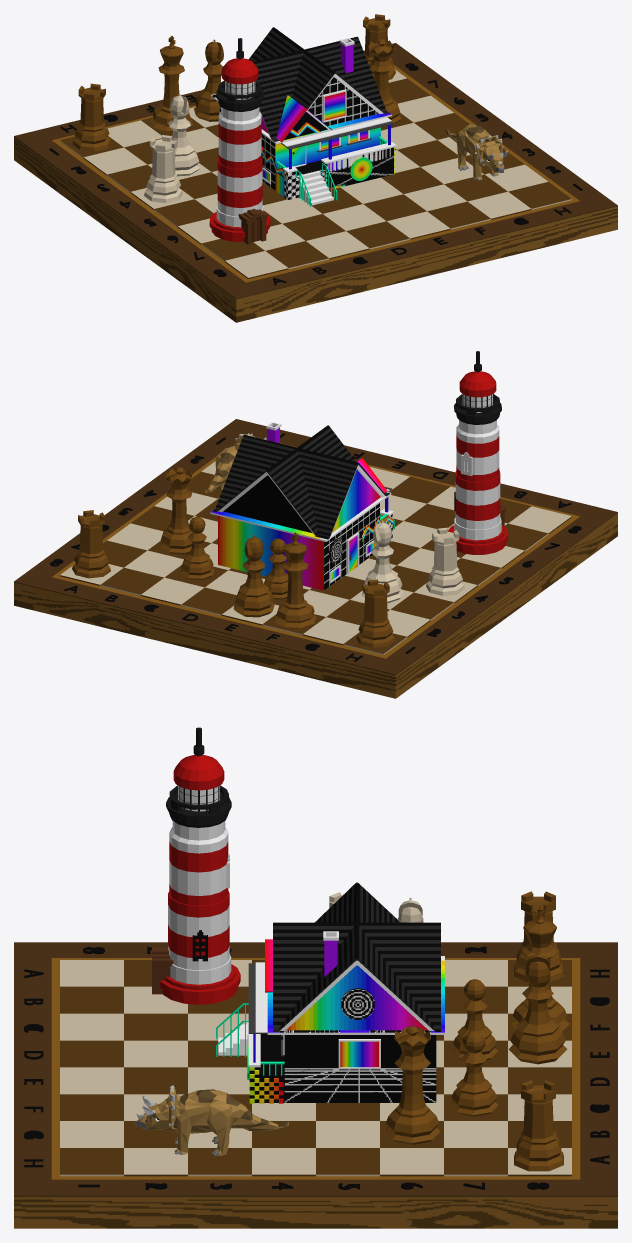
The picture shows the model from 3 angles, top to bottom: view 1: azimuth 30°, elevation 25°; view 2: azimuth 150°, elevation 25°; view 3: azimuth 270°, elevation 25°; orthographic projection. The views are drawn at different scales.
Visible parts, largest first — view 1: Cube.002, Cube.1320, OBJRANDOM_LIGHTHOUSE, ANIMAL_Triceratops; view 2: Cube.002, Cube.1320, OBJRANDOM_LIGHTHOUSE, ANIMAL_Triceratops; view 3: Cube.002, Cube.1320, OBJRANDOM_LIGHTHOUSE, ANIMAL_Triceratops.
Boxes of the visible parts, bbox=[...] form: Cube.002: bbox=[14, 14, 617, 322]; Cube.1320: bbox=[211, 27, 396, 206]; OBJRANDOM_LIGHTHOUSE: bbox=[209, 38, 270, 244]; ANIMAL_Triceratops: bbox=[446, 124, 507, 180]; Cube.002: bbox=[14, 419, 617, 698]; Cube.1320: bbox=[210, 422, 394, 590]; OBJRANDOM_LIGHTHOUSE: bbox=[447, 351, 508, 554]; ANIMAL_Triceratops: bbox=[204, 433, 266, 492]; Cube.002: bbox=[14, 891, 617, 1228]; Cube.1320: bbox=[216, 882, 444, 1103]; OBJRANDOM_LIGHTHOUSE: bbox=[152, 727, 240, 1004]; ANIMAL_Triceratops: bbox=[135, 1085, 288, 1156].
Bounding box in the file's own units: 3981 × 2252 × 4012.
Materials: 29 (4 with a texture image).
